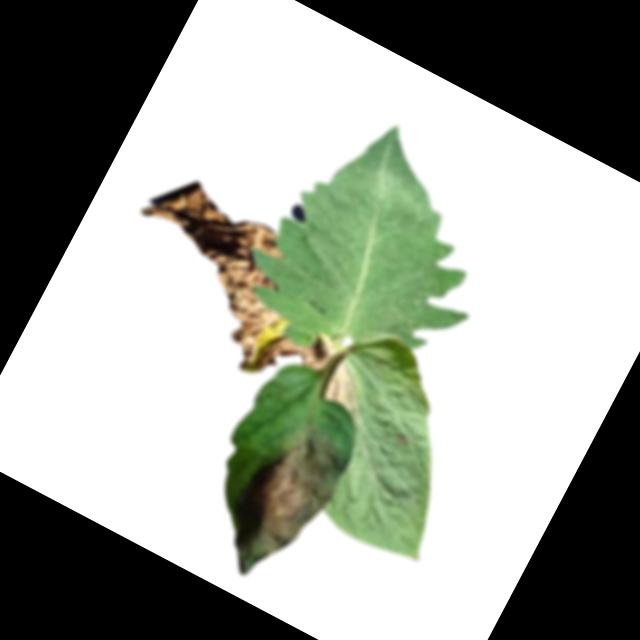Late_blight: (95, 165, 347, 392), (203, 405, 361, 597), (320, 357, 377, 416), (296, 332, 338, 375), (393, 431, 413, 452)
healthy: (224, 90, 534, 406)
